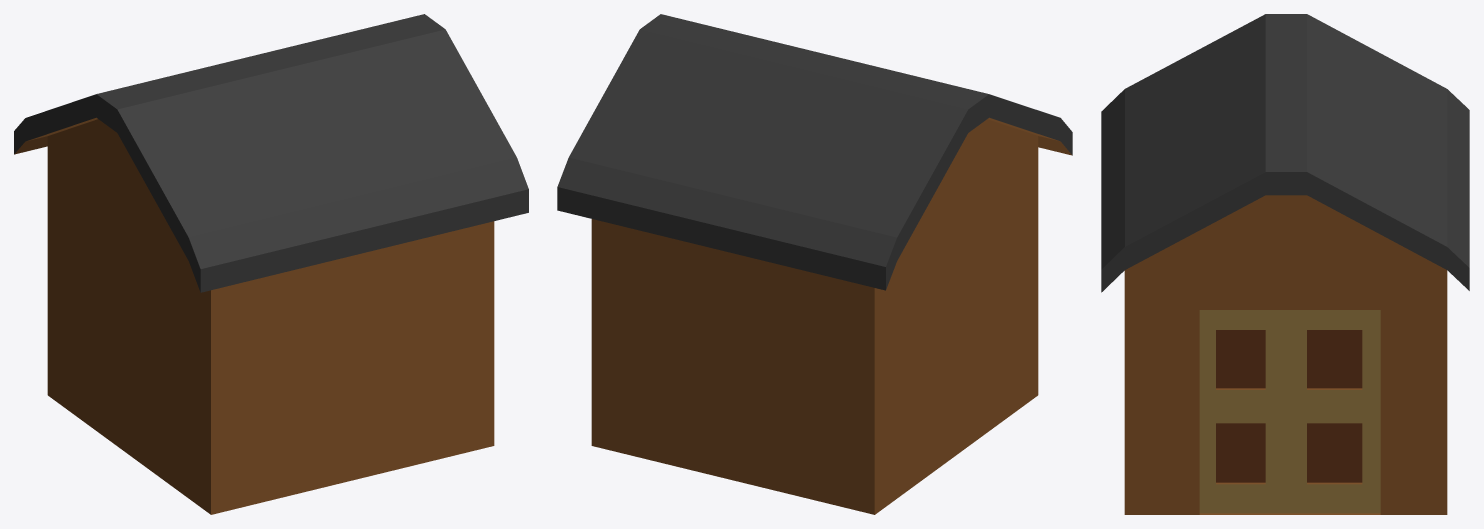
Rendered from Shed.fbx.
3 renders of one model, left to right at view 1: azimuth 30°, elevation 25°; view 2: azimuth 150°, elevation 25°; view 3: azimuth 270°, elevation 25°, orthographic.
Visible parts, largest first — view 1: Cube; view 2: Cube; view 3: Cube.
Part boxes in pixels (box(x1,y1,x2,y2)): Cube: box(14, 14, 528, 514); Cube: box(557, 14, 1072, 514); Cube: box(1101, 14, 1469, 514).
Size of the model in its own units: 464 by 484 by 457.
